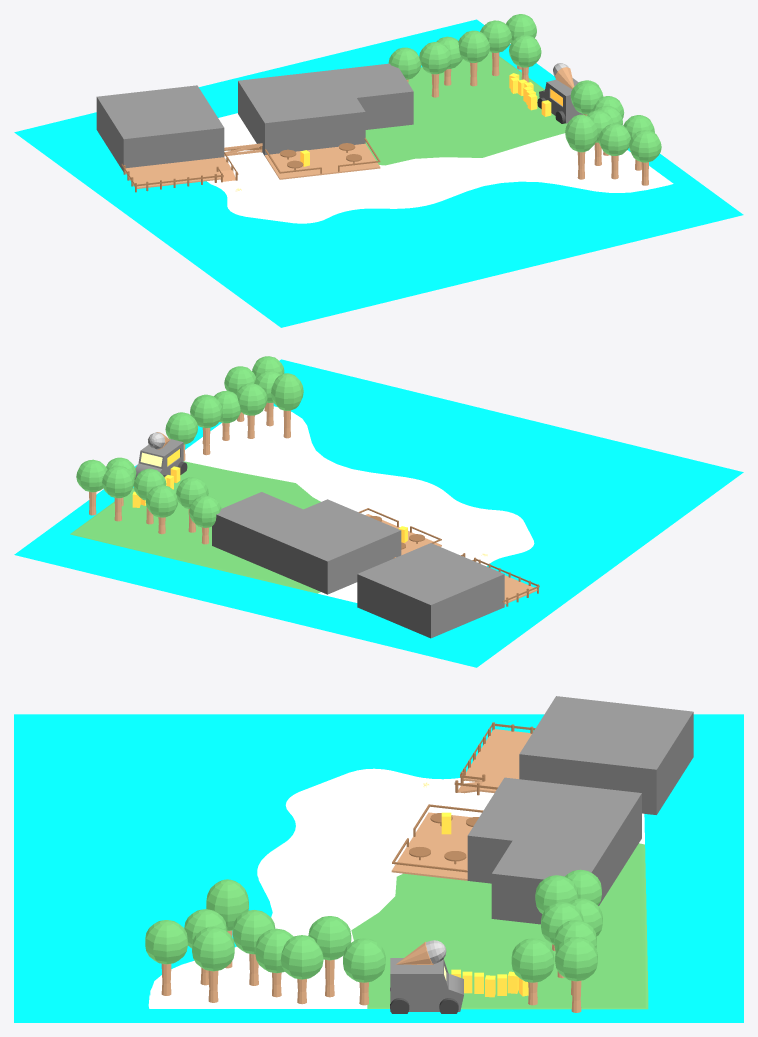
File: GreyboxTest.fbx
The picture shows the model from 3 angles, top to bottom: view 1: azimuth 30°, elevation 25°; view 2: azimuth 150°, elevation 25°; view 3: azimuth 270°, elevation 25°; orthographic projection. The views are drawn at different scales.
Visible parts, largest first — view 1: water, scene, ground; view 2: water, scene, ground; view 3: water, scene, ground.
Boxes of the visible parts, x1=… form: water: x1=14, y1=19, x2=743, y2=327; scene: x1=96, y1=14, x2=661, y2=192; ground: x1=207, y1=51, x2=673, y2=223; water: x1=14, y1=359, x2=743, y2=667; scene: x1=76, y1=356, x2=539, y2=638; ground: x1=70, y1=406, x2=534, y2=602; water: x1=14, y1=714, x2=743, y2=1022; scene: x1=145, y1=696, x2=693, y2=1013; ground: x1=148, y1=768, x2=648, y2=1009.
Size of the model in its own units: 7527 by 1039 by 7527.
